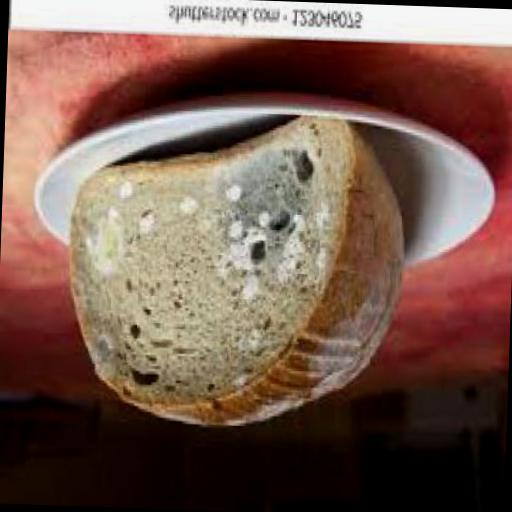biodegradable: (60, 112, 407, 436)
